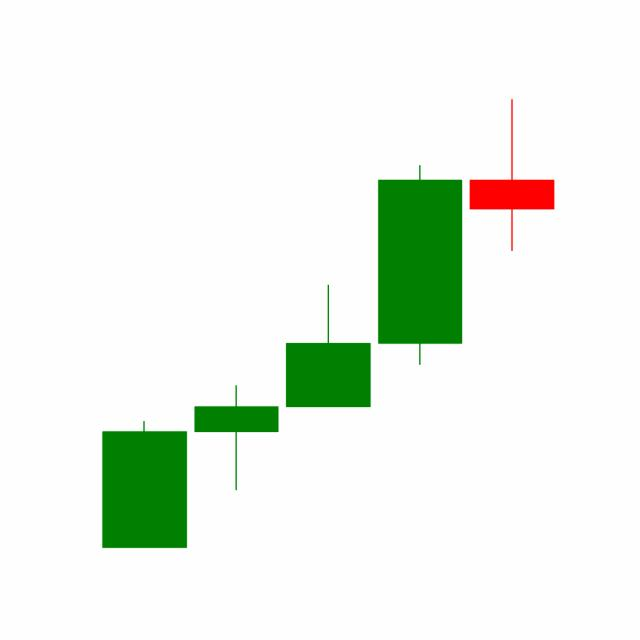Marubozu: (373, 162, 467, 368)
